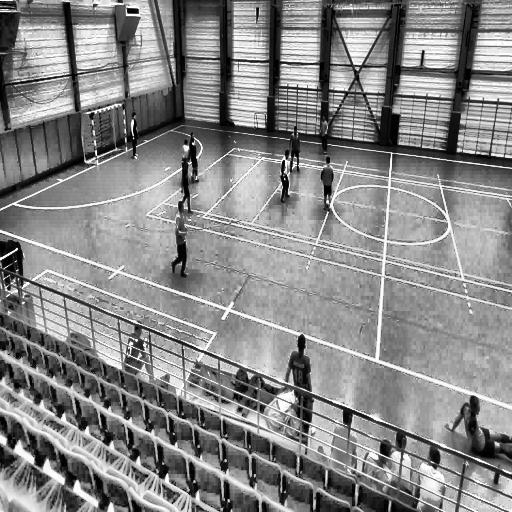ball: (326, 198, 330, 211)
player: (172, 199, 190, 282), (320, 155, 334, 211), (287, 127, 303, 175), (188, 131, 201, 184), (280, 147, 291, 204), (129, 112, 139, 161), (318, 114, 329, 154)
